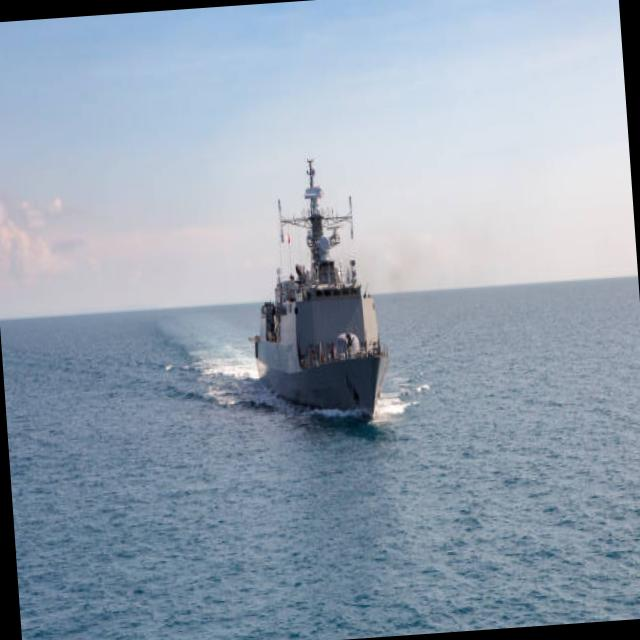Military: (255, 163, 385, 422)
